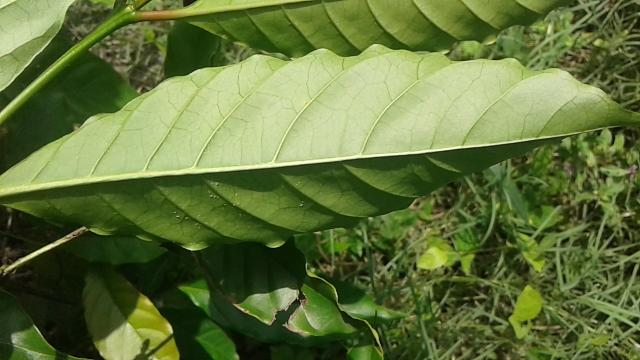healthy: (0, 42, 640, 254)
